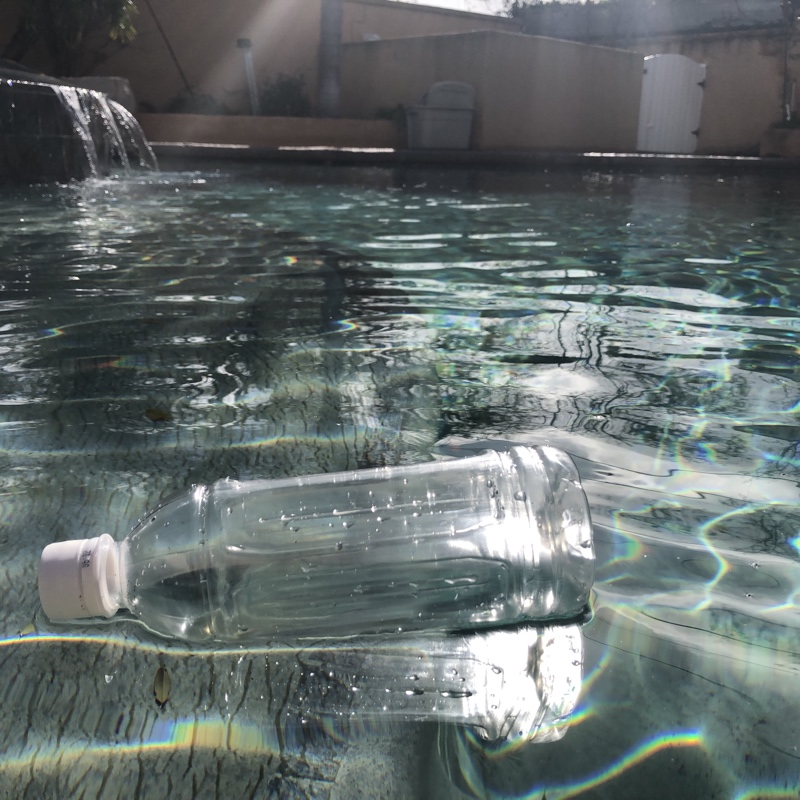Plastic Bottle: (17, 438, 604, 650)
